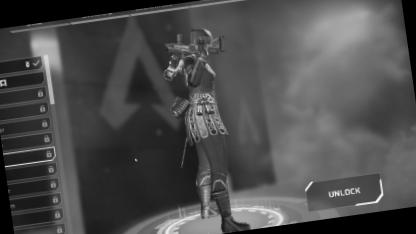Target: (160, 52, 232, 194)
